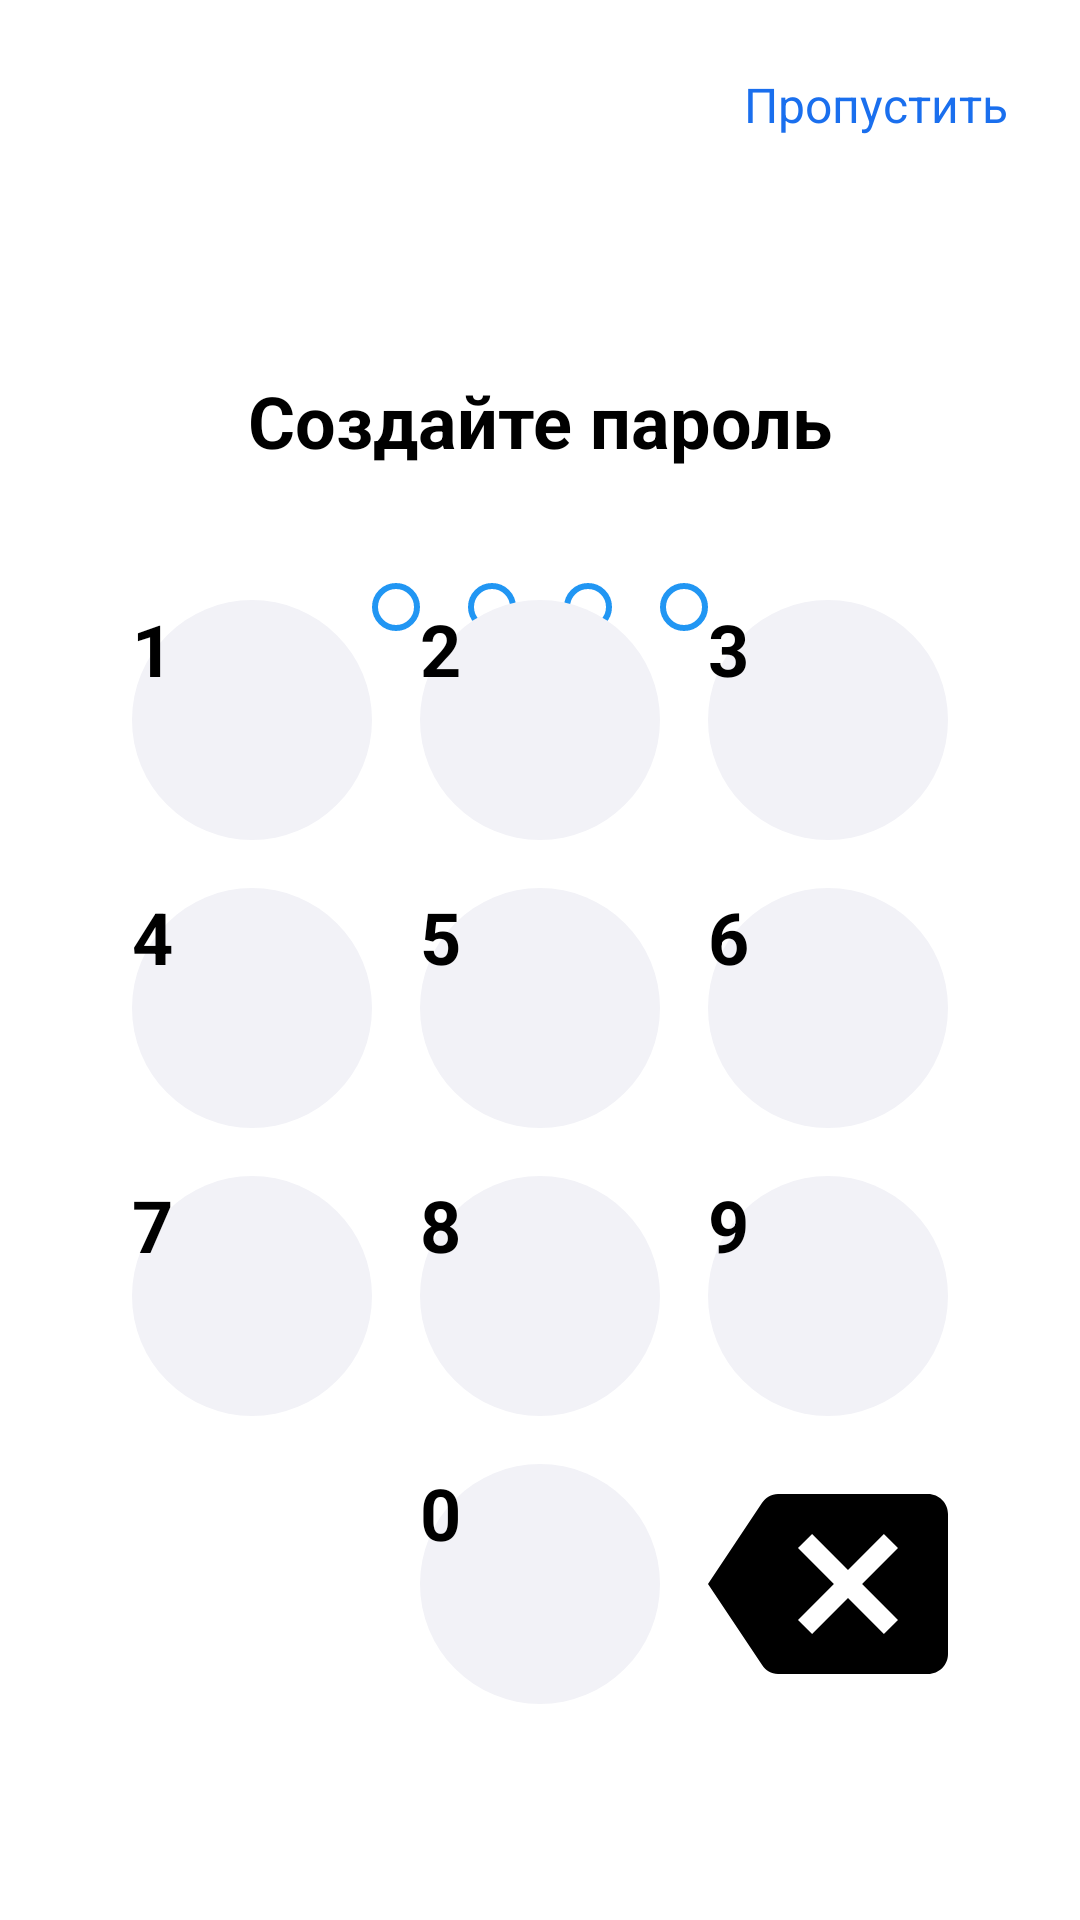

Named icons in this screenshot (1080×1920) and their bounding boxes, bbox(x1, y1, x2, y2):
backspace: bbox(708, 1494, 948, 1674)
